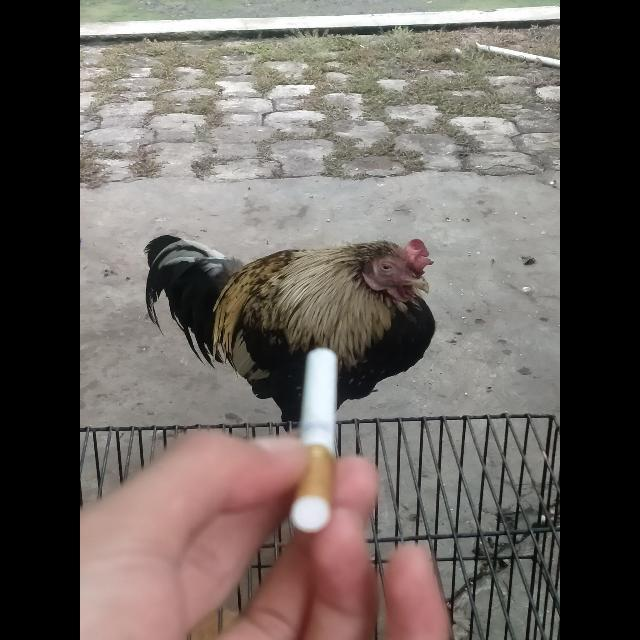rokok: (294, 340, 338, 536)
